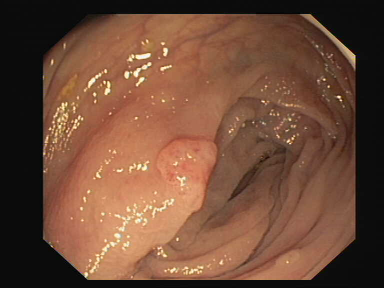polyp: (139, 122, 227, 203)
